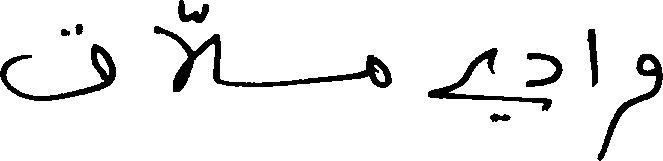X: (0, 19, 116, 105), (601, 49, 662, 160), (428, 43, 496, 126), (155, 0, 213, 96), (268, 50, 391, 92), (528, 48, 562, 115), (588, 24, 597, 160), (215, 29, 220, 88)
